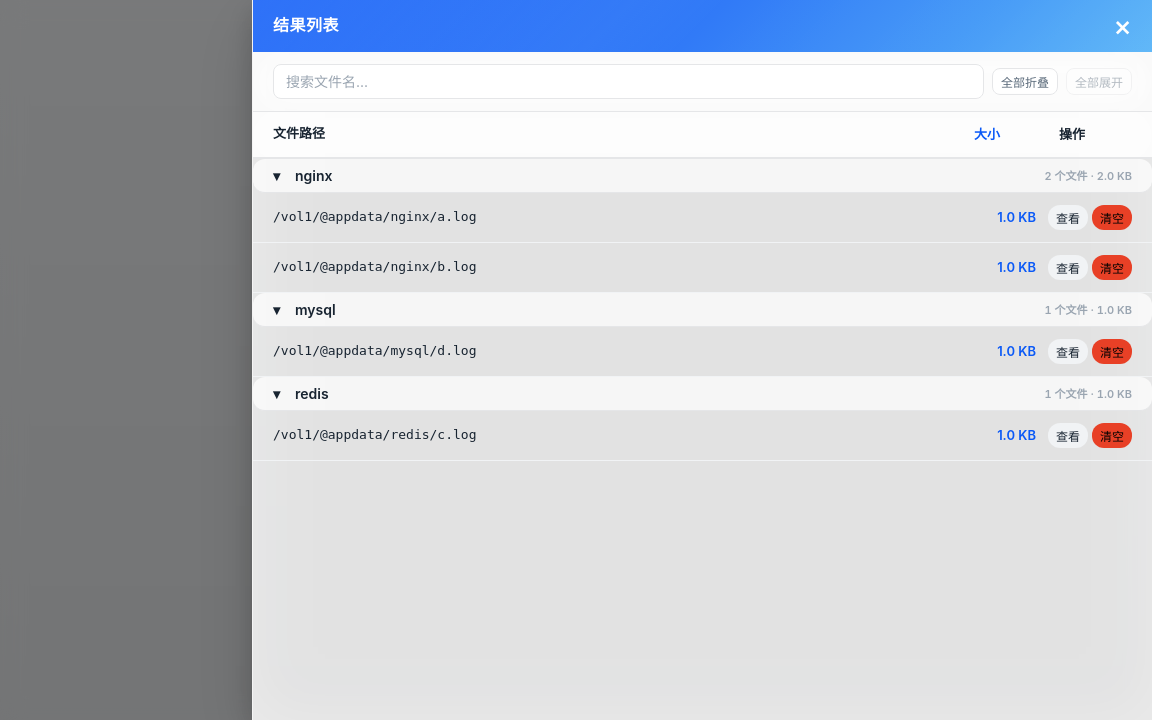
Test: LogListCard 分组视图 › 全部折叠 / 全部展开 › 已全折叠时「全部折叠」禁用，全展开时「全部展开」禁用
This screenshot has width=1152, height=720.
Expected: the button with class "collapse-all-btn" showing "全部展开" is disabled, left=1066, top=68, right=1132, bottom=95
Click the button with class "collapse-all-btn" showing "全部折叠" at [1025, 82], box left=992, top=68, right=1058, bottom=95
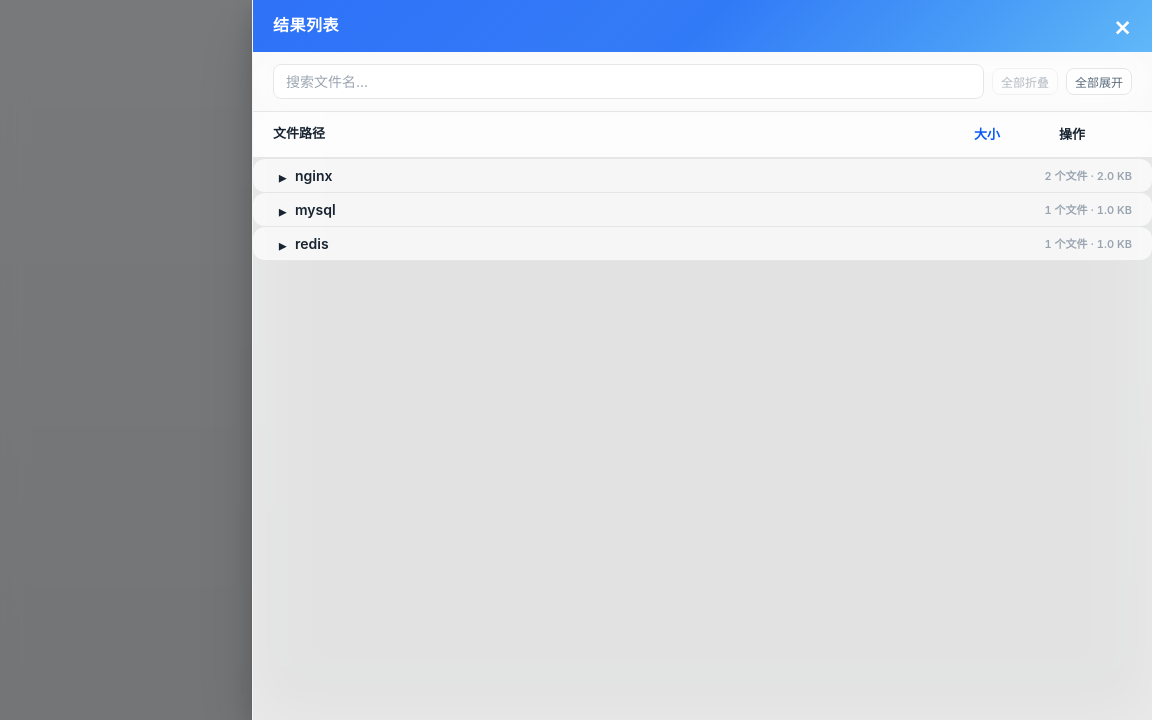
Expected: the button with class "collapse-all-btn" showing "全部折叠" is disabled, left=992, top=68, right=1058, bottom=95
Expected: the button with class "collapse-all-btn" showing "全部展开" is enabled, left=1066, top=68, right=1132, bottom=95
